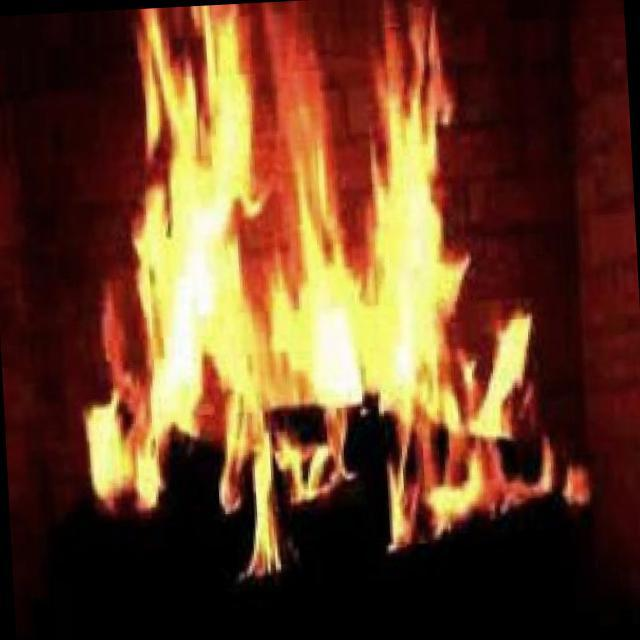Fire: (82, 29, 490, 520)
